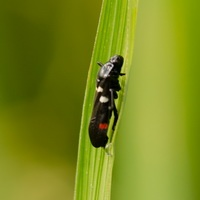insect: (89, 55, 124, 147)
